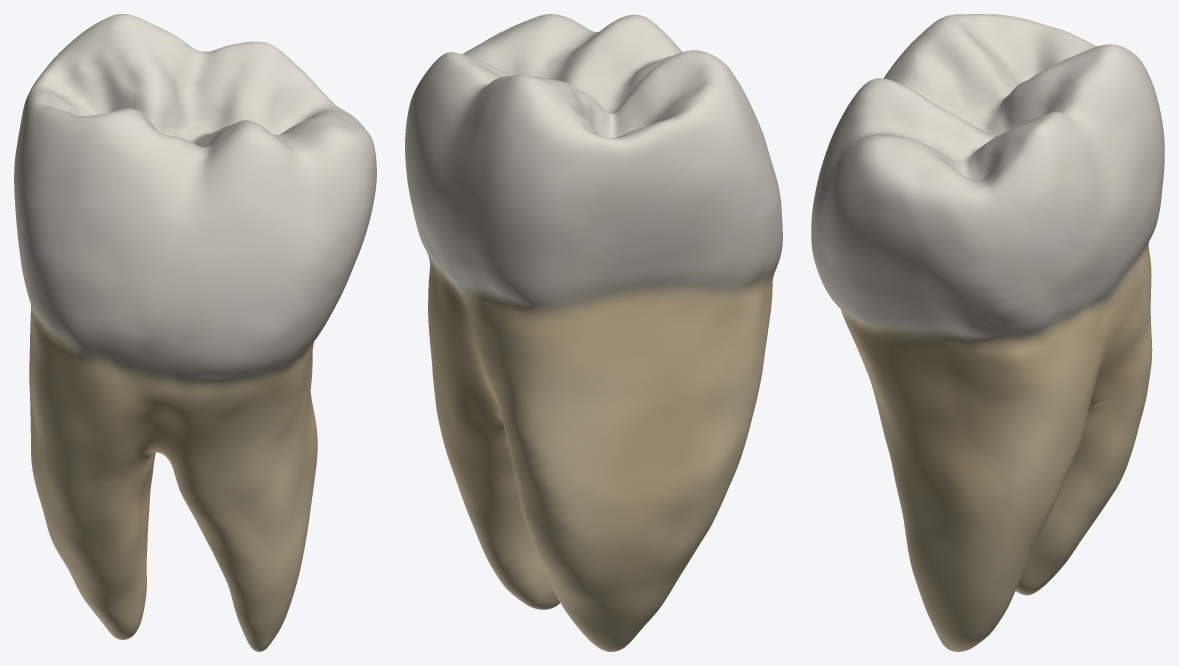
3 renders of one model, left to right at view 1: azimuth 30°, elevation 25°; view 2: azimuth 150°, elevation 25°; view 3: azimuth 270°, elevation 25°, orthographic. The views are drawn at different scales.
Visible parts, largest first — view 1: t36; view 2: t36; view 3: t36.
Part boxes in pixels (x1,y1,x2,y2): t36: (14,14,376,651); t36: (405,14,782,651); t36: (811,14,1164,651).
Size of the model in its own units: 12.56 by 21.5 by 11.96.
Materials: 1 (1 with a texture image).
